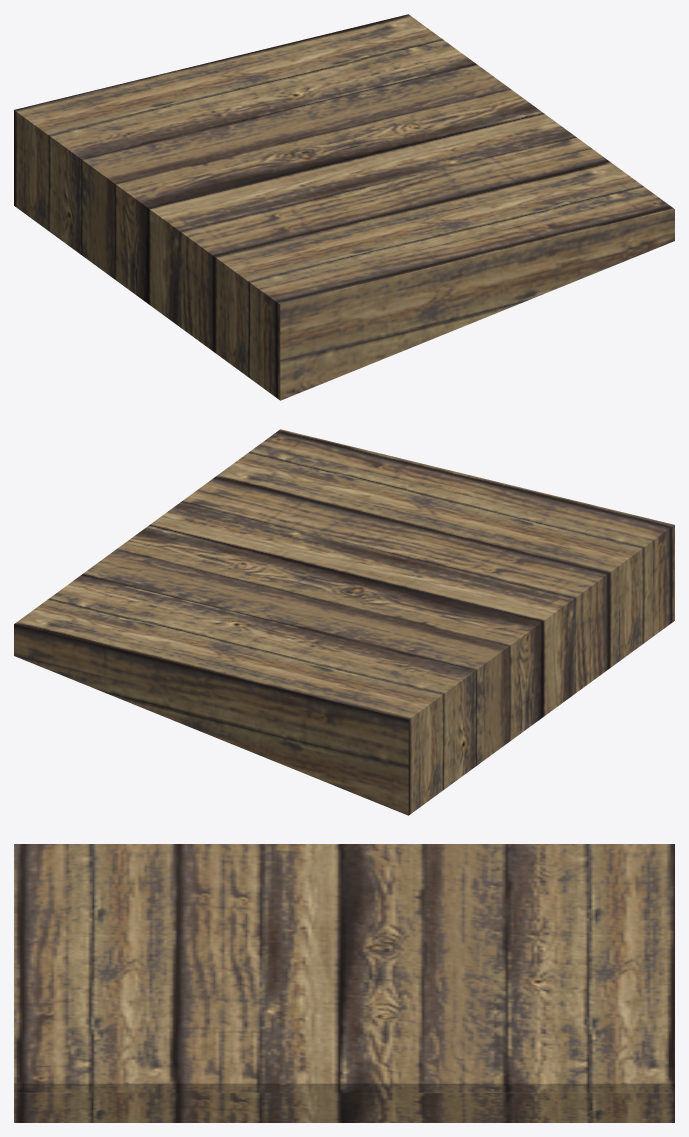
File: blacksmith_platform1SM.fbx
3 views of the same model, one above another, from view 1: azimuth 30°, elevation 25°; view 2: azimuth 150°, elevation 25°; view 3: azimuth 270°, elevation 25° (orthographic). The views are drawn at different scales.
Parts seen in each view (by area): view 1: blacksmith_platform1SM; view 2: blacksmith_platform1SM; view 3: blacksmith_platform1SM.
Boxes of the visible parts, box(x1,y1,x2,y2) form: blacksmith_platform1SM: box(14, 14, 674, 400); blacksmith_platform1SM: box(14, 429, 674, 815); blacksmith_platform1SM: box(14, 844, 674, 1122).
Bounding box in the file's own units: 366 × 84.89 × 428.
